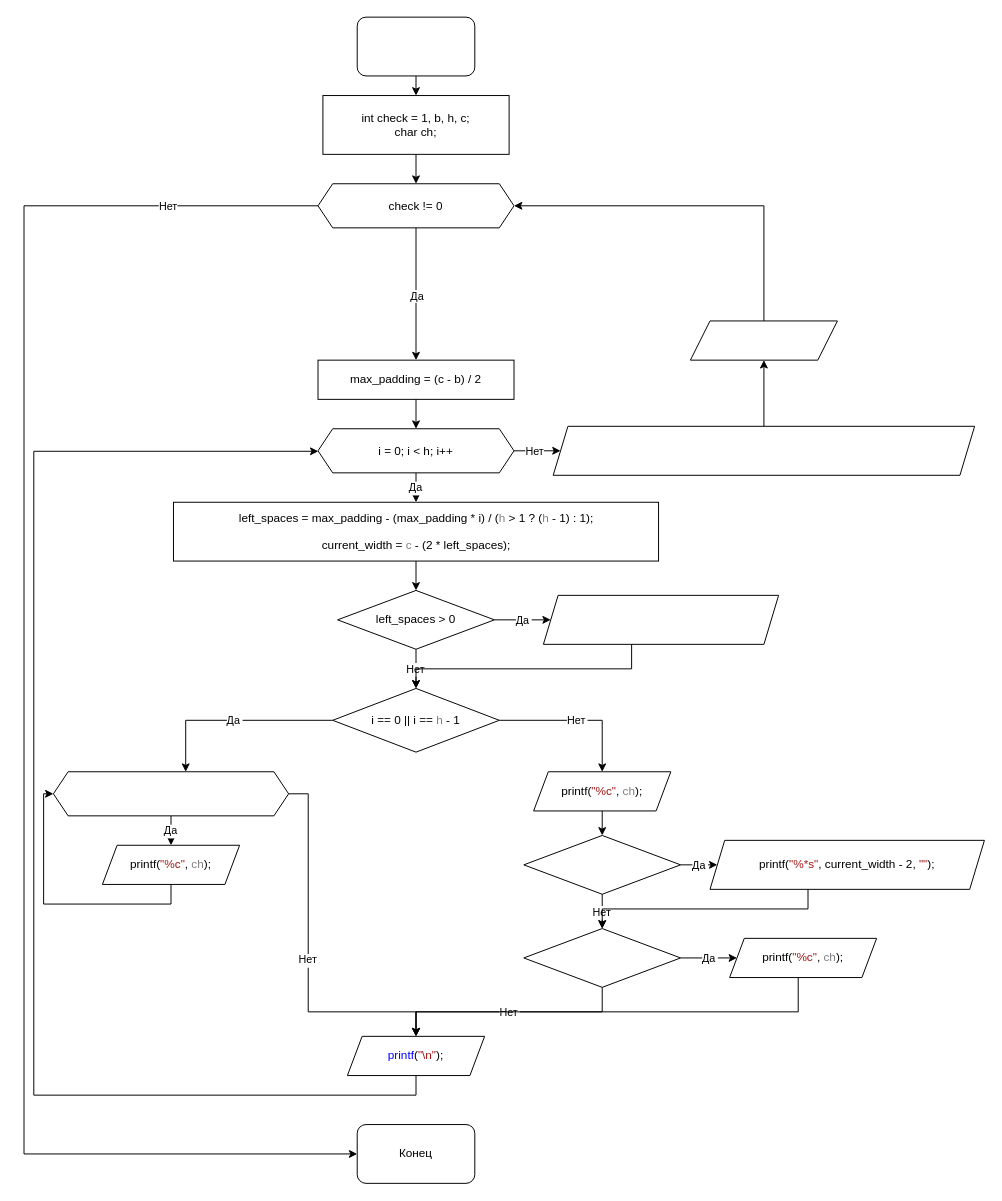
Some shapes in this 1002 by 1201 pixel diagram are drawn without their labels. The shapes that lost their labels are listed below. From the top down, each one's box as (x1, y1, x2, y2) in pixels, then its label:
(356, 16, 475, 76): Начало
(689, 320, 837, 360): scanf("%d", &check);
(552, 425, 975, 475): Продолжить ? (Да - введите любое число, Нет - введите 0)\n
(542, 594, 779, 644): printf( "%*s" , left_spaces, "" );
(52, 771, 289, 816): int j = 0; j < current_width; j++
(523, 834, 681, 894): current_width > 2
(523, 928, 681, 987): current_width > 1
